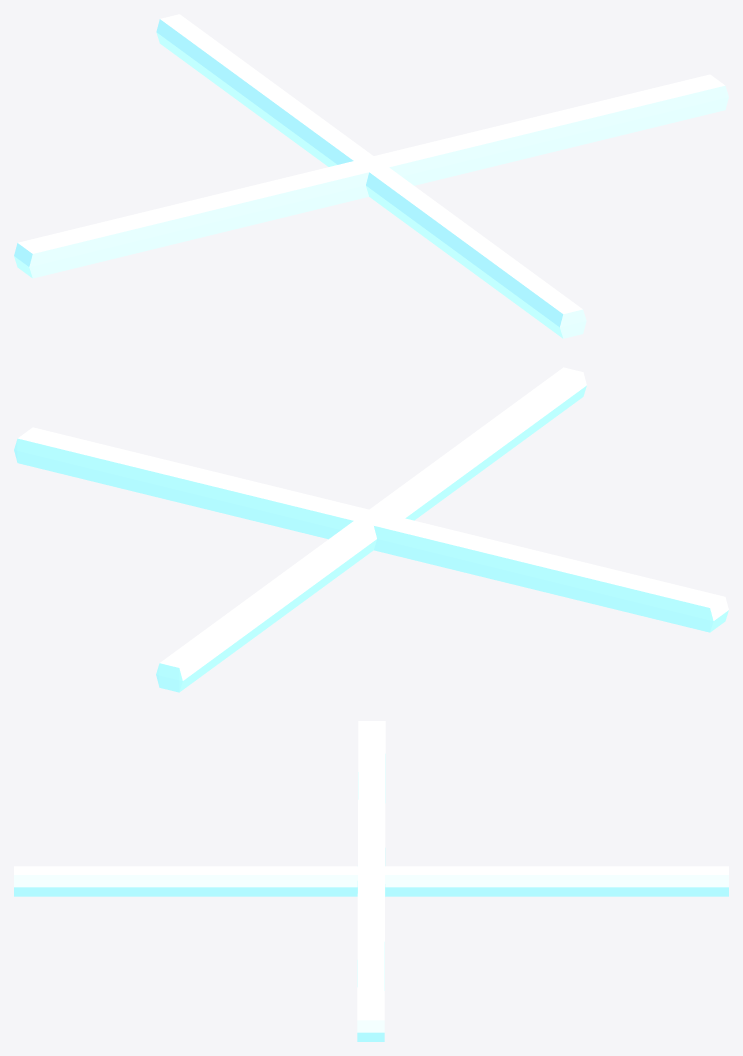
Rendered from FixationCross.fbx.
3 renders of one model, top to bottom at view 1: azimuth 30°, elevation 25°; view 2: azimuth 150°, elevation 25°; view 3: azimuth 270°, elevation 25°, orthographic. The views are drawn at different scales.
Visible parts, largest first — view 1: fixationCross; view 2: fixationCross; view 3: fixationCross.
Part boxes in pixels (bbox=[...]): fixationCross: bbox=[14, 14, 728, 338]; fixationCross: bbox=[14, 367, 728, 692]; fixationCross: bbox=[14, 721, 728, 1041].
Size of the model in its own units: 59.54 by 2 by 59.54.
